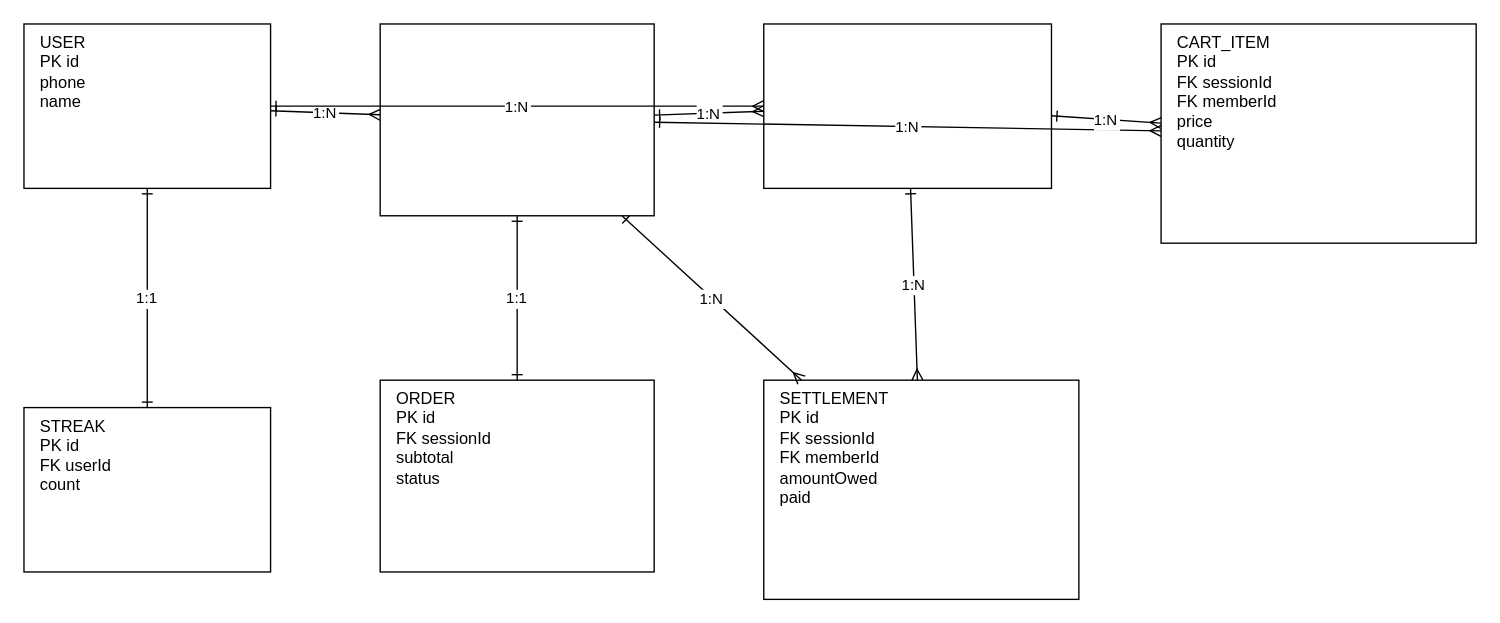
The diagram is 1500 pixels wide and 623 high, and some of its shapes have lost their labels. The shapes that lost their labels are listed below. From the top down, each one's centre as x and y in pixels, then its label:
point (516, 119): SESSION PK id FK leaderId code status
point (906, 105): MEMBER PK id FK sessionId FK userId
